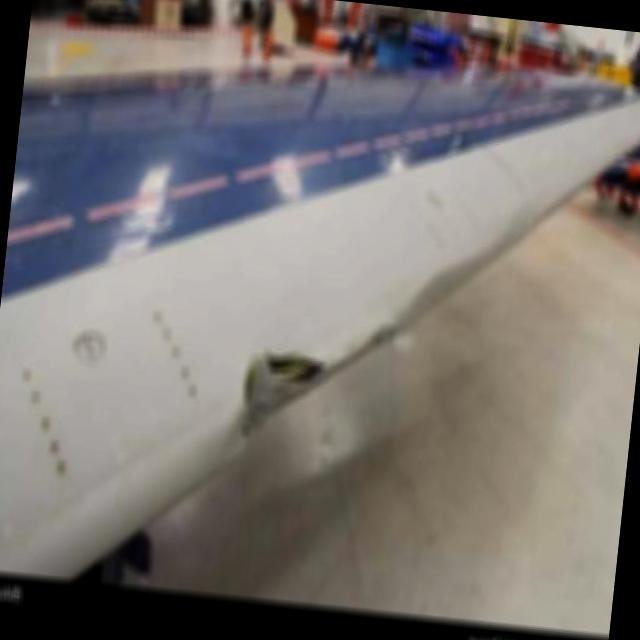crack: (239, 348, 329, 451)
dent: (354, 238, 507, 376)
